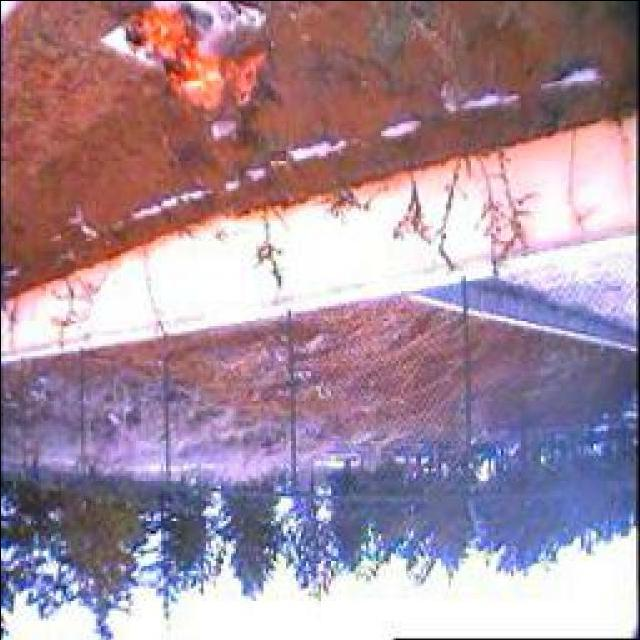Fire: (119, 0, 266, 109)
